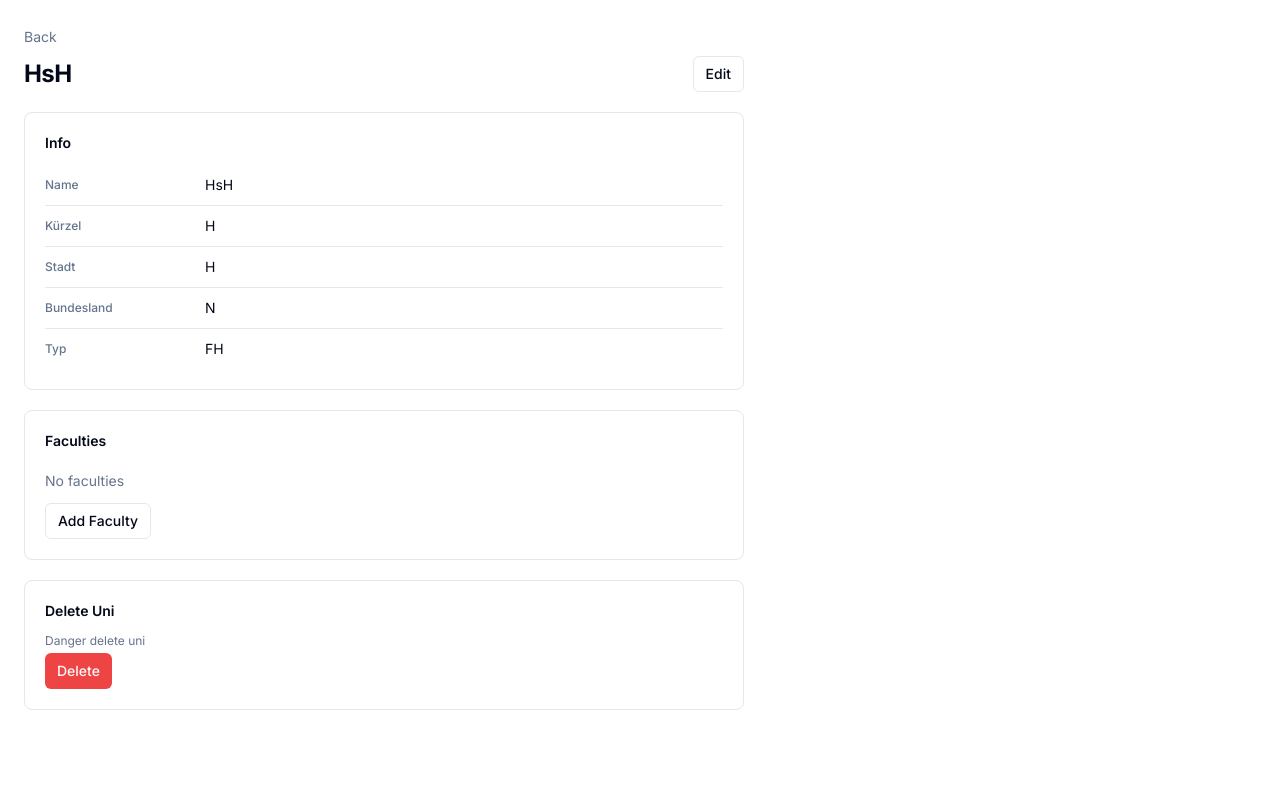
AdminUniversityDetailPage › handles editing university (Happy & Sad Path)
The width and height of the screenshot is (1280, 800).
Open Edit Modal
Click the button "Edit" at [718, 74], box [693, 56, 744, 92]
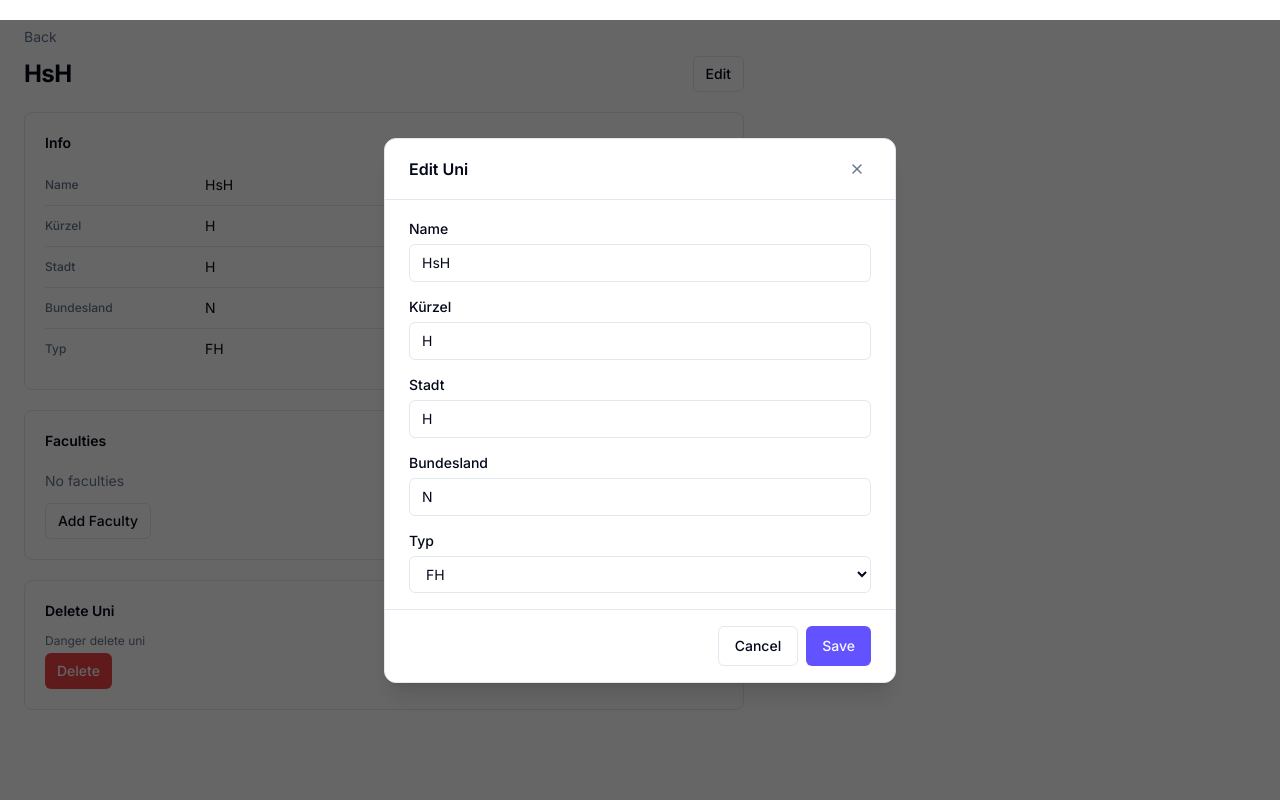
expect the heading "Edit Uni" is shown: met, box [409, 156, 468, 180]
Click the button "Save" at [839, 646], box [806, 626, 871, 666]
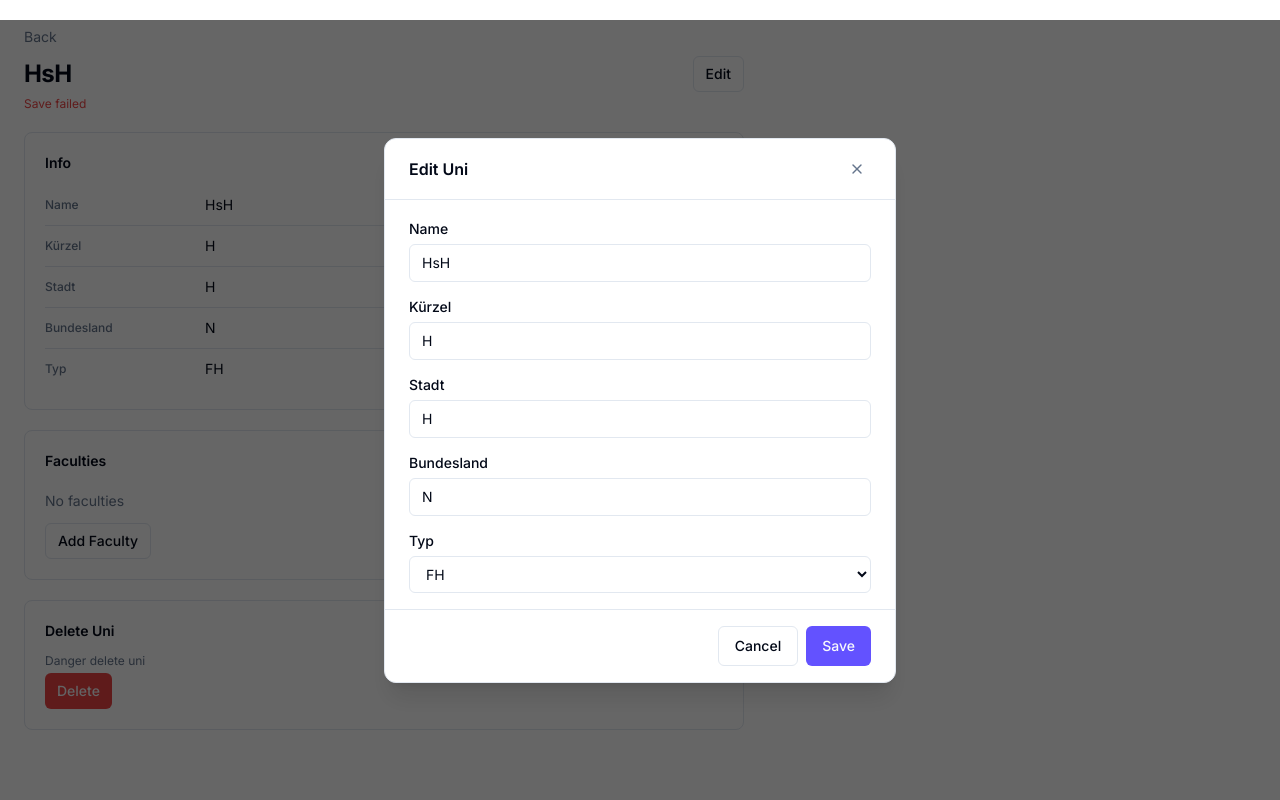
expect the text "Save failed" is shown: met, box [24, 96, 86, 111]
Select "Uni" in the dropdown at [640, 574], box [409, 556, 871, 592]
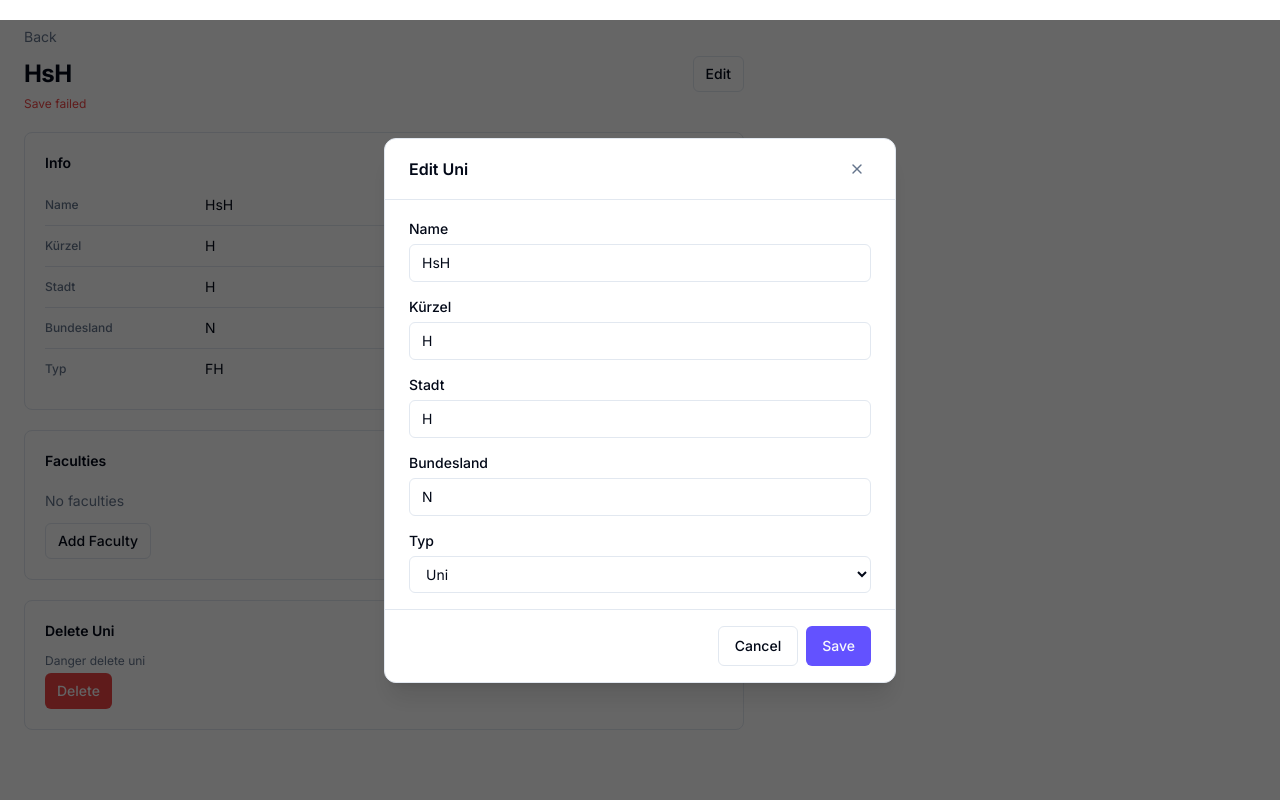
Click the button "Save" at [839, 646], box [806, 626, 871, 666]
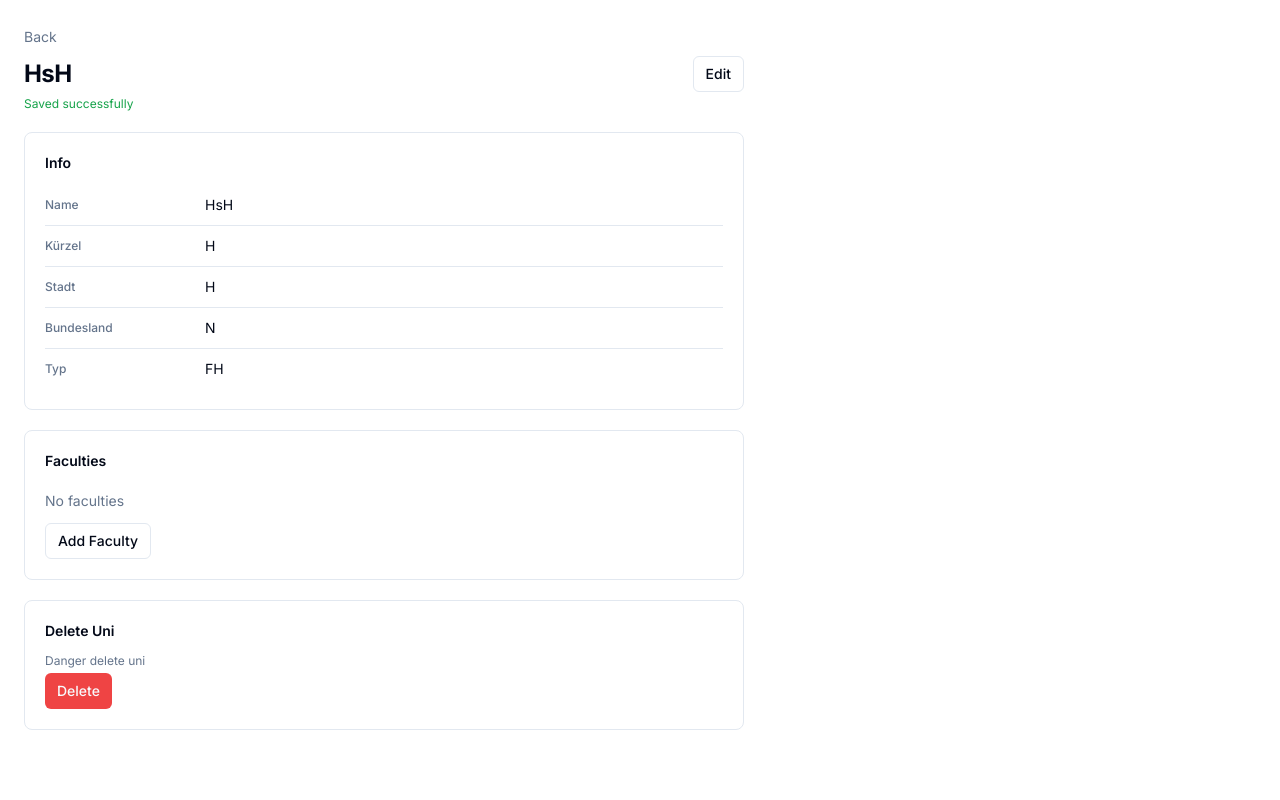
expect the text "Saved successfully" is shown: met, box [24, 96, 134, 111]
expect the heading "Edit Uni" is gone: met
